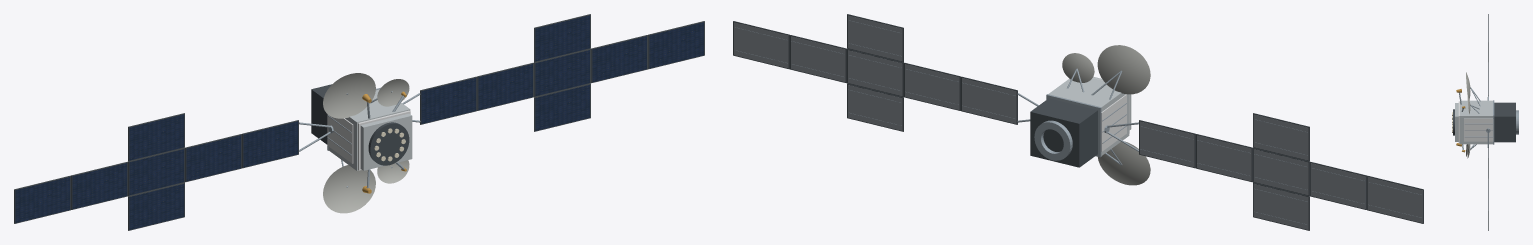
File: maxar-1300-jupiter-3.glb
The picture shows the model from 3 angles, left to right: view 1: azimuth 30°, elevation 25°; view 2: azimuth 150°, elevation 25°; view 3: azimuth 270°, elevation 25°; orthographic projection. The views are drawn at different scales.
Visible parts, largest first — view 1: Solar cell panel (×14), Communications reflector (×4), Planar antenna aperture, Antenna equipment shelf, Payload module, Radiator face, Service module; view 2: Rear array substrate (×14), Communications reflector (×3), Service module, Payload module, Radiator face, Launch adapter ring, Module interface; view 3: Service module, Payload module, Radiator face, Antenna equipment shelf, Radiator seam (×2), Module interface, Communications reflector, Earth-facing deck, Launch adapter ring, Planar antenna aperture.
Boxes of the visible parts, x1,y1,x2,y2 form: Solar cell panel (×14): [15, 15, 703, 229]; Communications reflector (×4): [323, 73, 409, 213]; Planar antenna aperture: [368, 122, 409, 165]; Antenna equipment shelf: [360, 113, 412, 170]; Payload module: [328, 89, 410, 170]; Radiator face: [327, 114, 353, 163]; Service module: [311, 84, 331, 144]; Rear array substrate (×14): [734, 15, 1422, 229]; Communications reflector (×3): [1062, 45, 1150, 185]; Service module: [1030, 98, 1097, 167]; Payload module: [1048, 78, 1129, 155]; Radiator face: [1101, 94, 1126, 151]; Launch adapter ring: [1034, 120, 1072, 160]; Module interface: [1046, 94, 1101, 157]; Service module: [1494, 102, 1515, 142]; Payload module: [1460, 100, 1492, 144]; Radiator face: [1464, 118, 1493, 141]; Antenna equipment shelf: [1455, 103, 1458, 141]; Radiator seam (×2): [1465, 123, 1492, 137]; Module interface: [1493, 100, 1494, 144]; Communications reflector: [1466, 72, 1470, 99]; Earth-facing deck: [1458, 101, 1459, 143]; Launch adapter ring: [1516, 110, 1518, 134]; Planar antenna aperture: [1453, 109, 1454, 135].
Bounding box in the file's own units: 38.68 × 7.43 × 5.54.
Materials: 9 (1 with a texture image).
